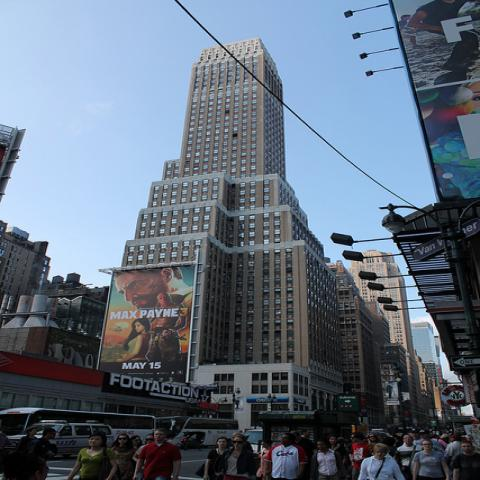bus: (4, 406, 161, 449), (158, 416, 241, 446)
car: (54, 425, 114, 457)
truck: (245, 430, 263, 452)
